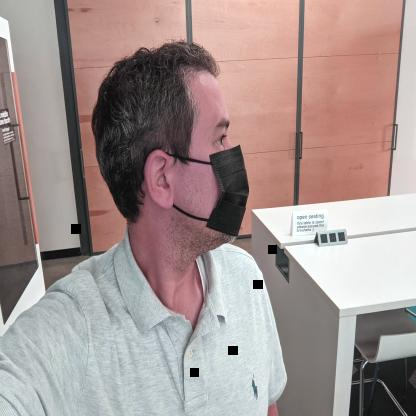mask: (142, 62, 250, 250)
